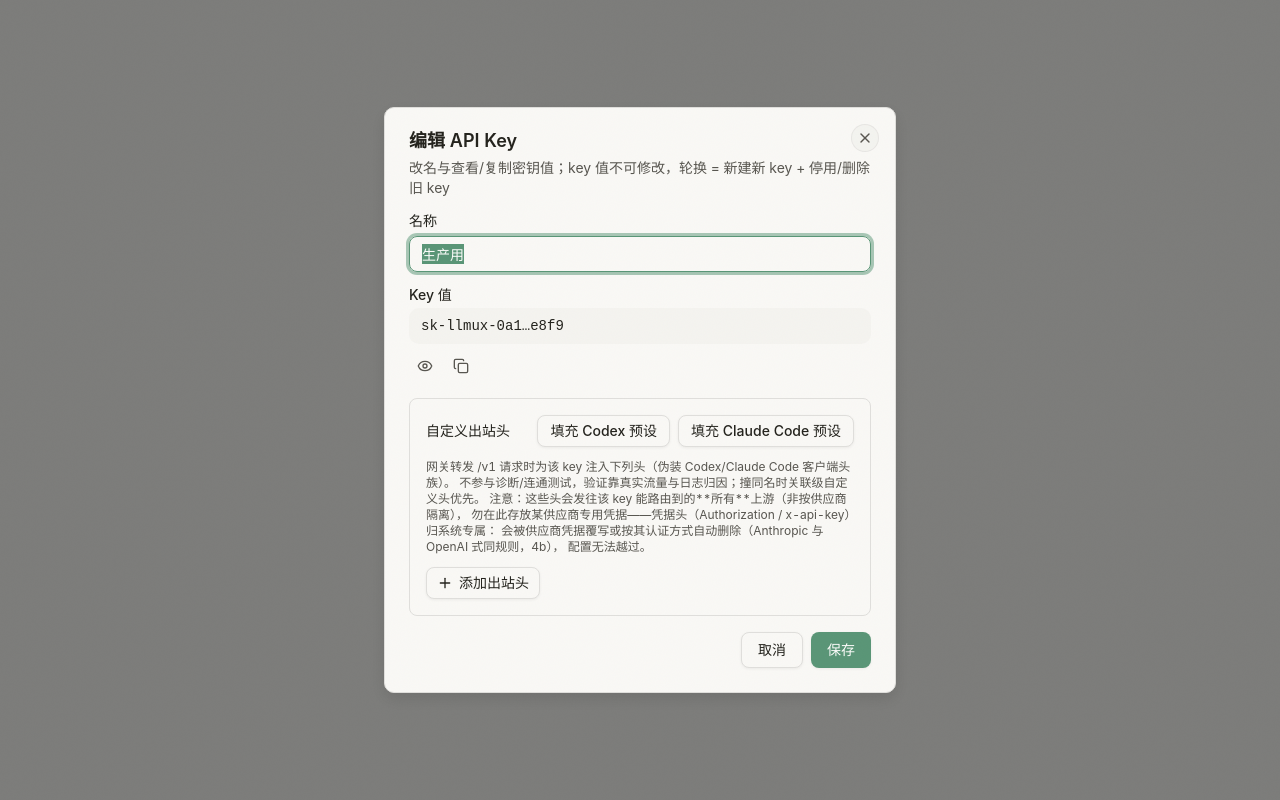
显示 / 收起明文 › 点「显示明文」后完整明文上屏且带 translate=no；点收起回掩码
Click the button named "显示明文": (425, 366) [409,350,441,382]
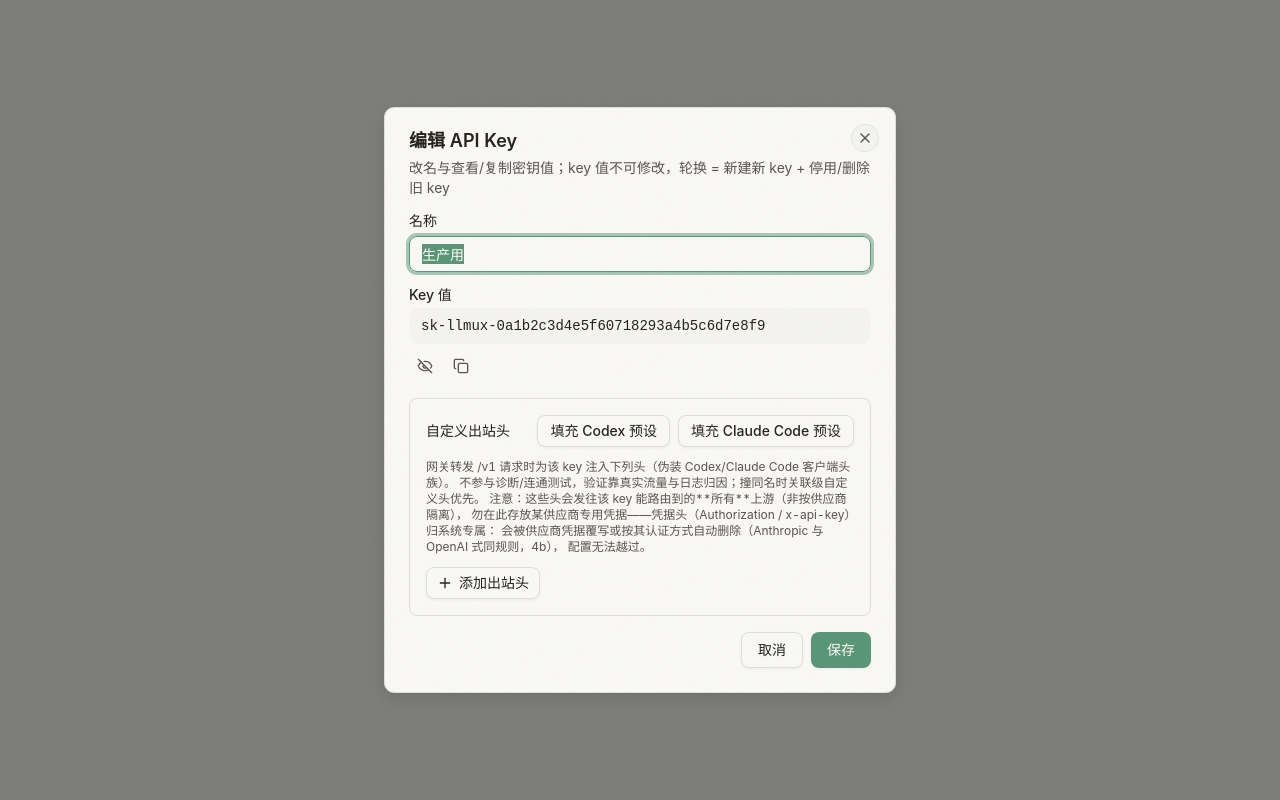
Check: the text "sk-llmux-0a1b2c3d4e5f60718293a4b5c6d7e8f9" has attribute translate="no", box [421,318,766,334]
Click the button named "隐藏明文": (425, 366) [409,350,441,382]
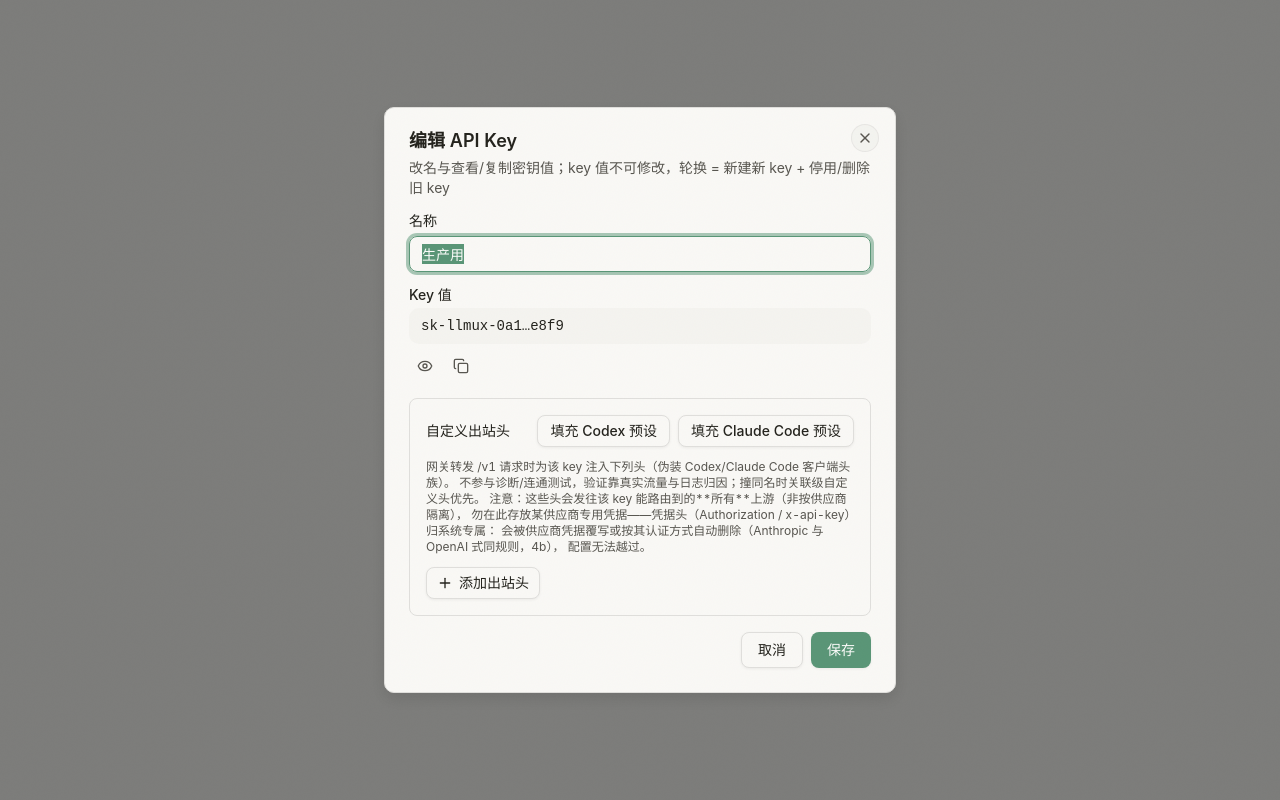
Check: the button named "显示明文" is shown, box [409,350,441,382]
